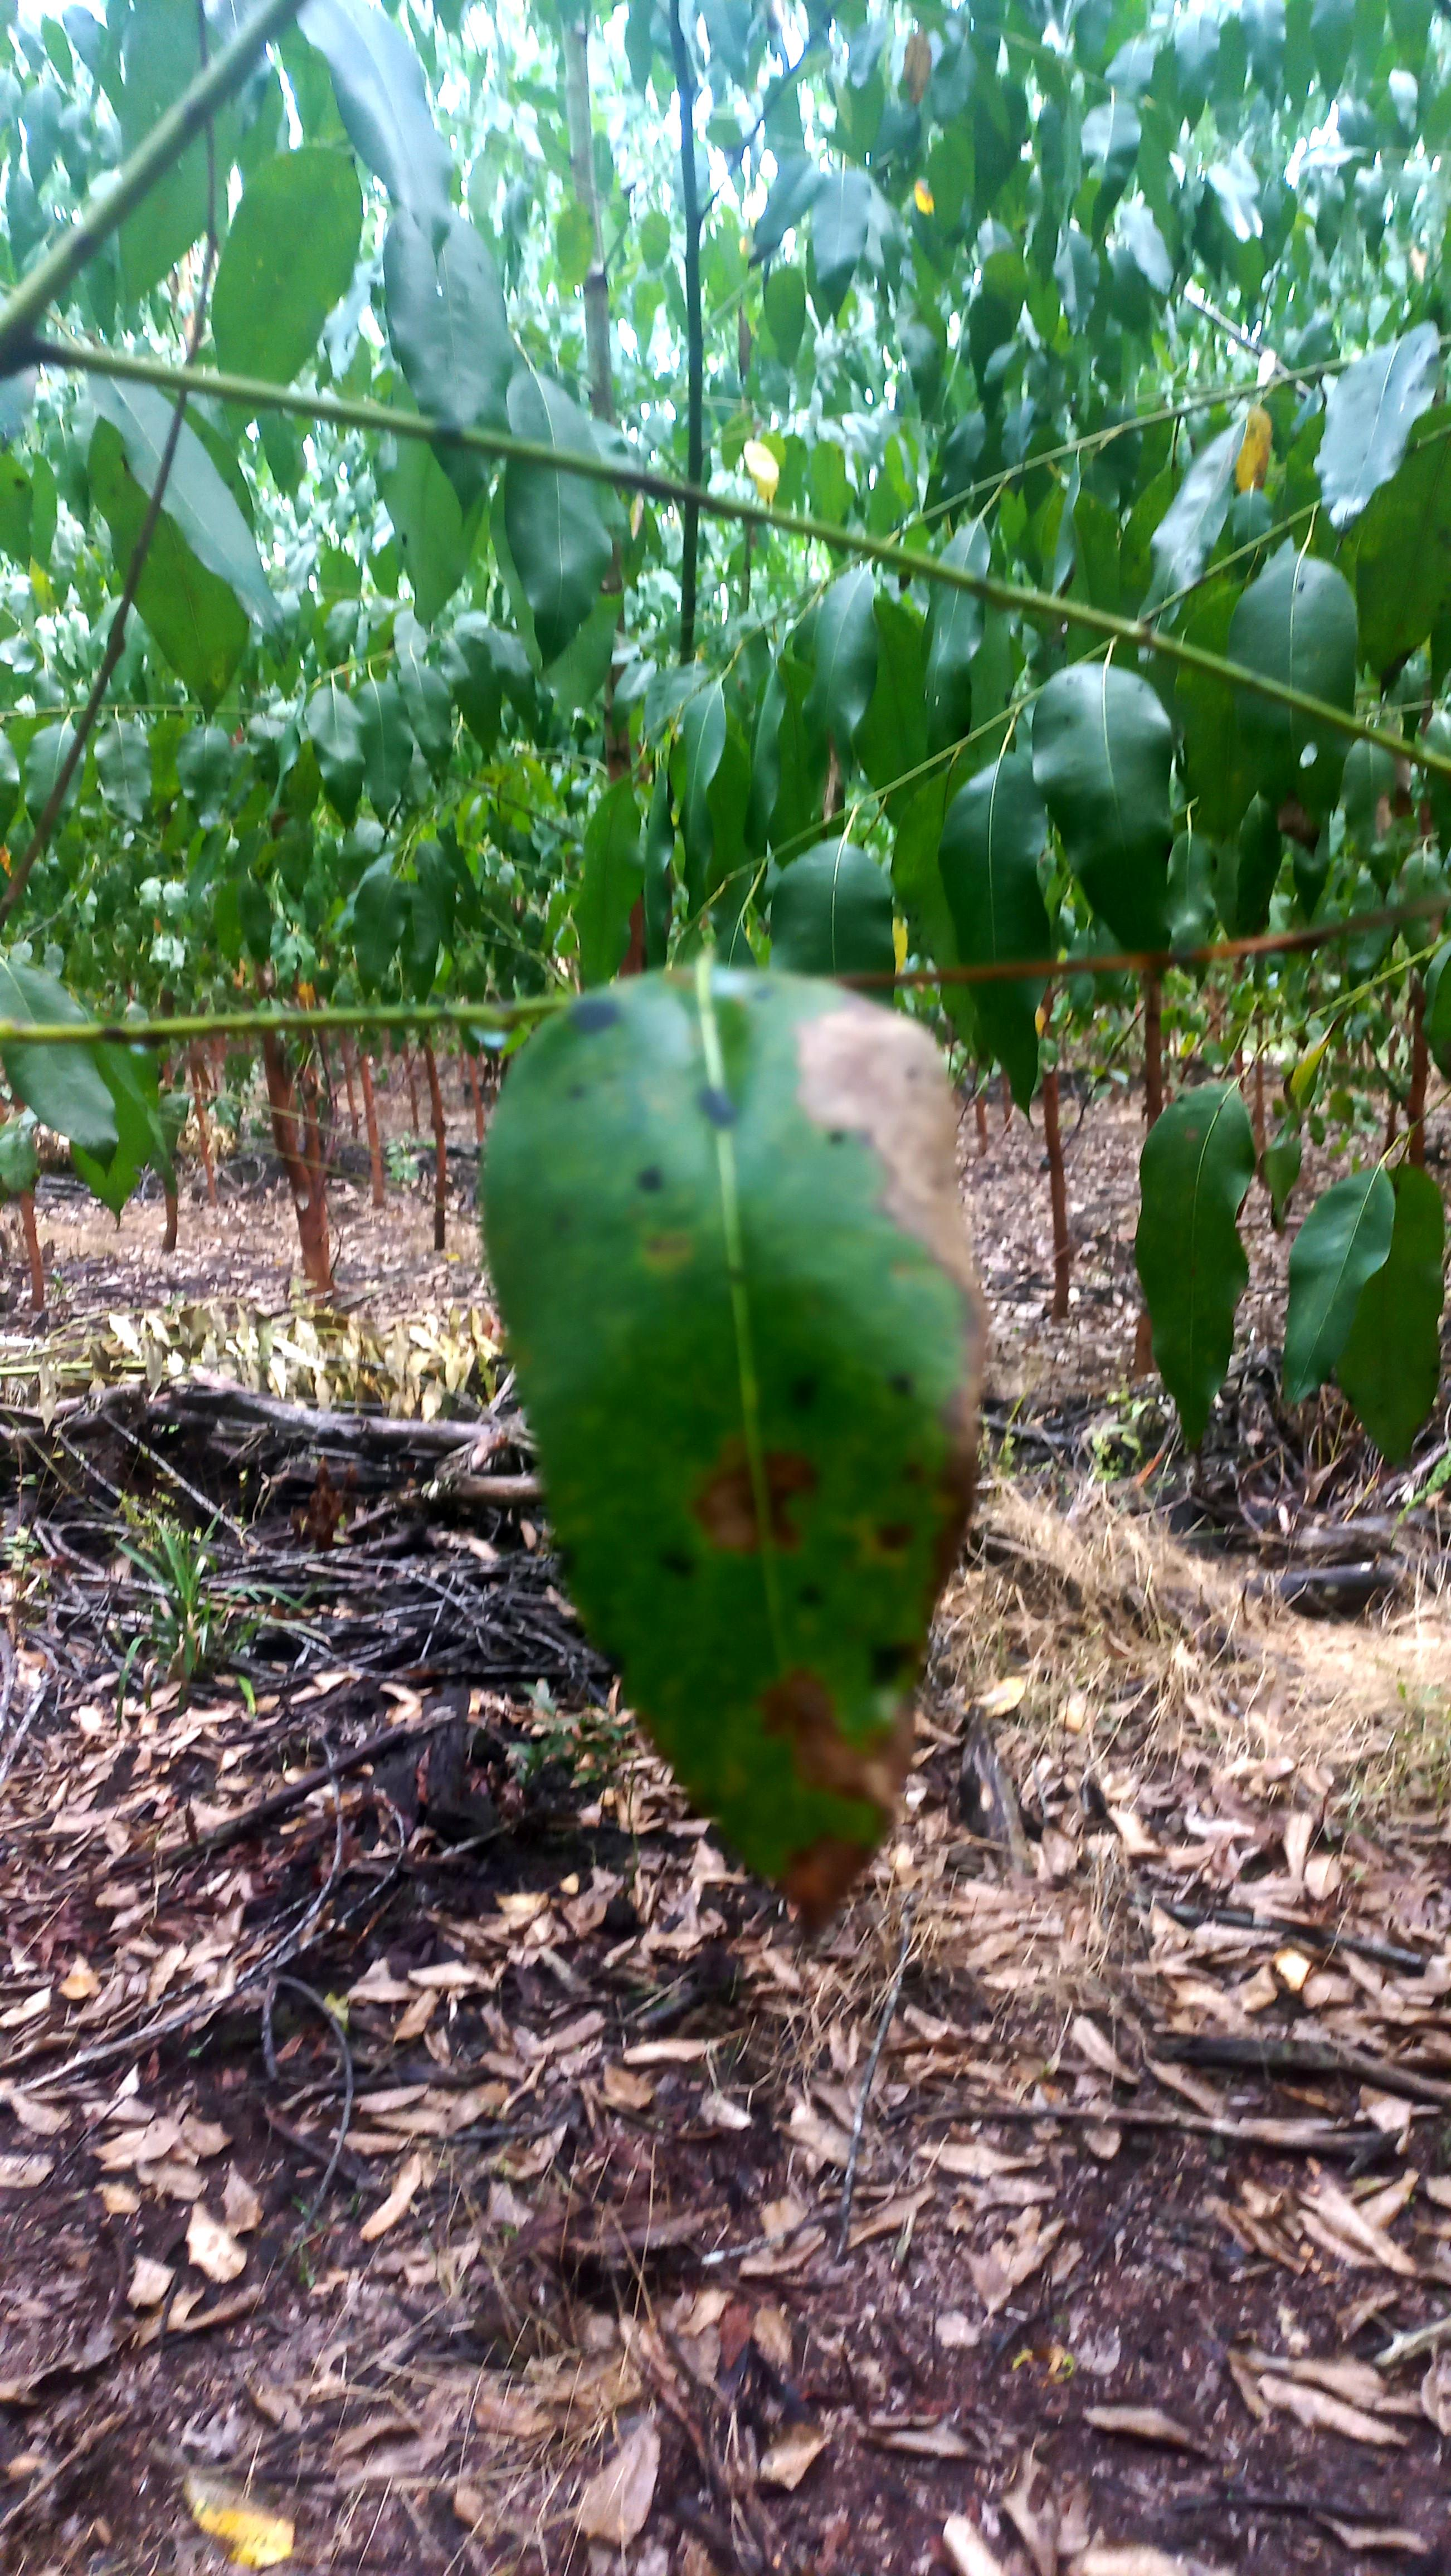Cylindrocladium: (793, 977, 1032, 1407), (763, 1663, 911, 1932), (694, 1440, 830, 1573), (1272, 791, 1322, 858)
